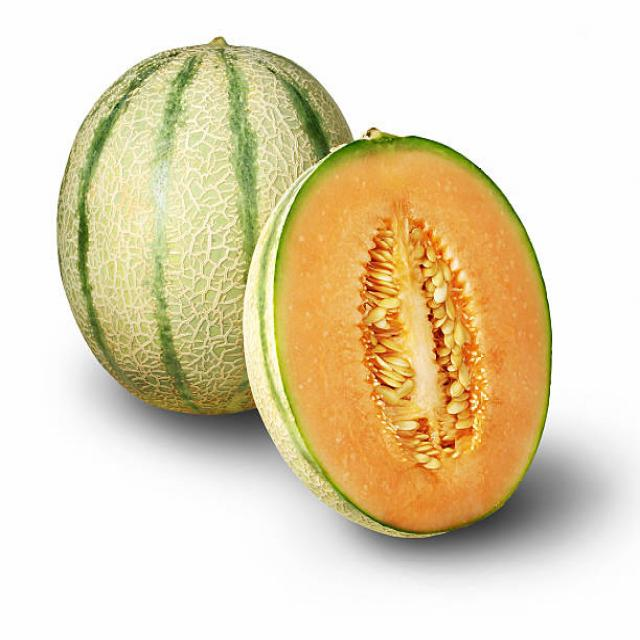melon: (296, 135, 558, 541), (51, 38, 249, 424)
